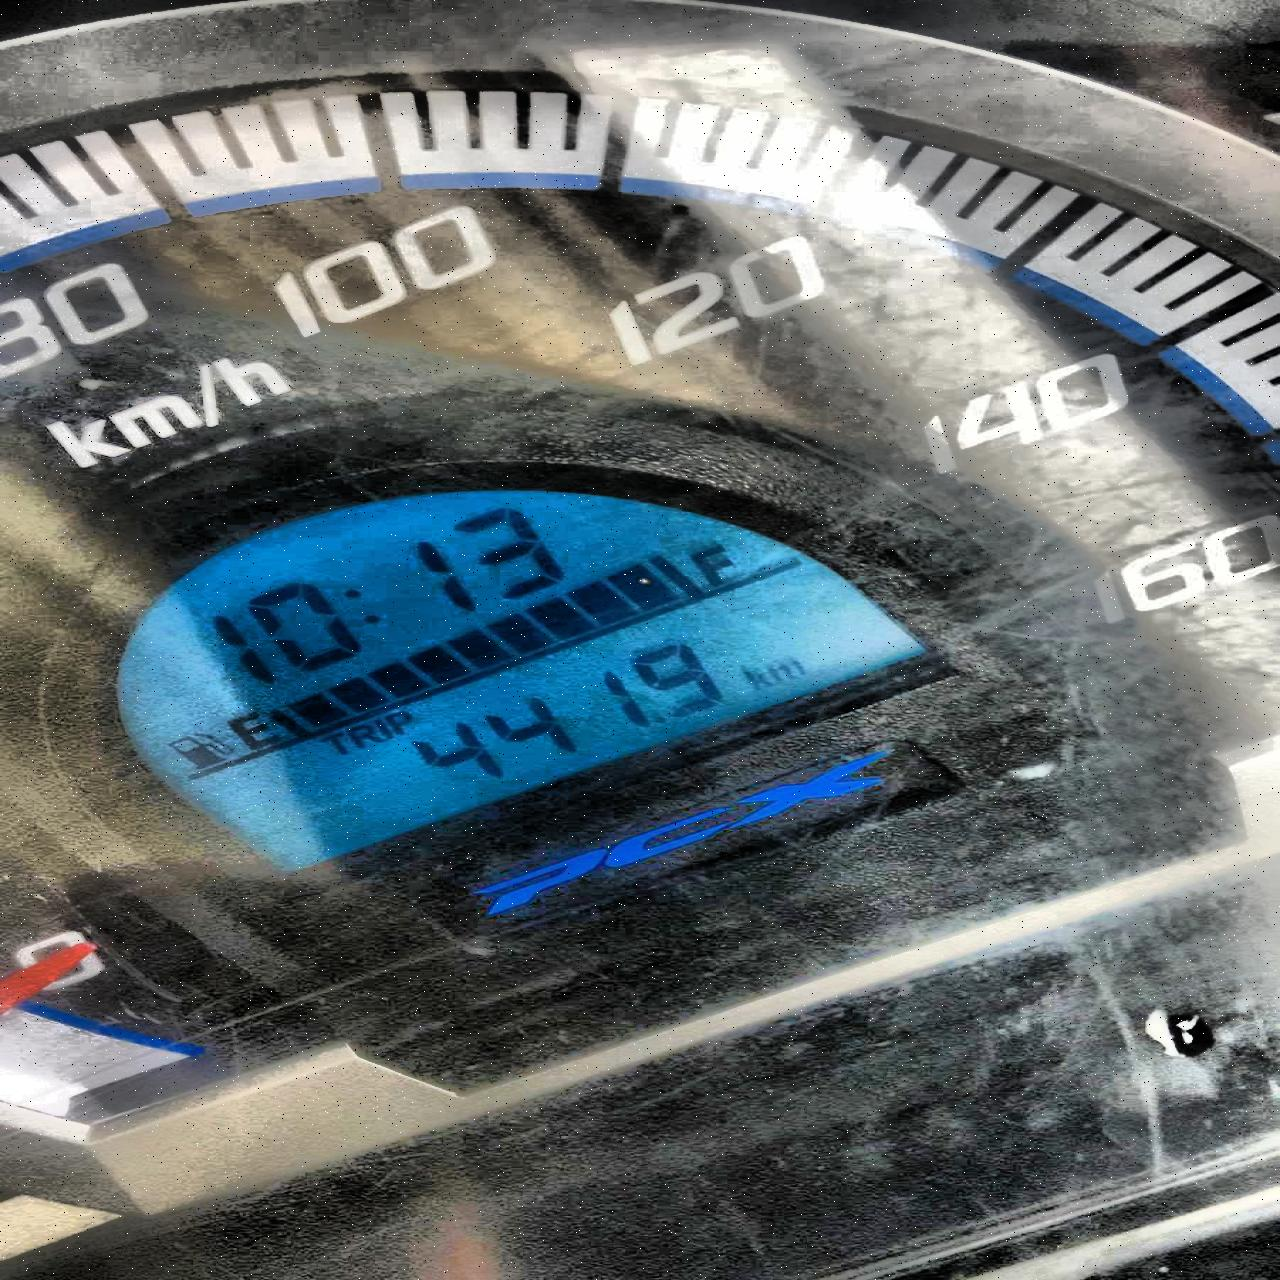-: (650, 712, 666, 726)
0: (242, 580, 366, 673)
1: (192, 610, 271, 696), (406, 531, 479, 615), (586, 658, 658, 740)
3: (445, 504, 571, 604)
4: (480, 694, 583, 759), (405, 722, 506, 786)
9: (634, 639, 728, 718)
X: (331, 578, 399, 630), (682, 540, 744, 587), (220, 708, 281, 752), (314, 731, 352, 754), (344, 724, 381, 747), (383, 710, 418, 734), (740, 665, 773, 690), (768, 659, 807, 679), (369, 715, 394, 740)
odometer: (78, 483, 933, 877)
